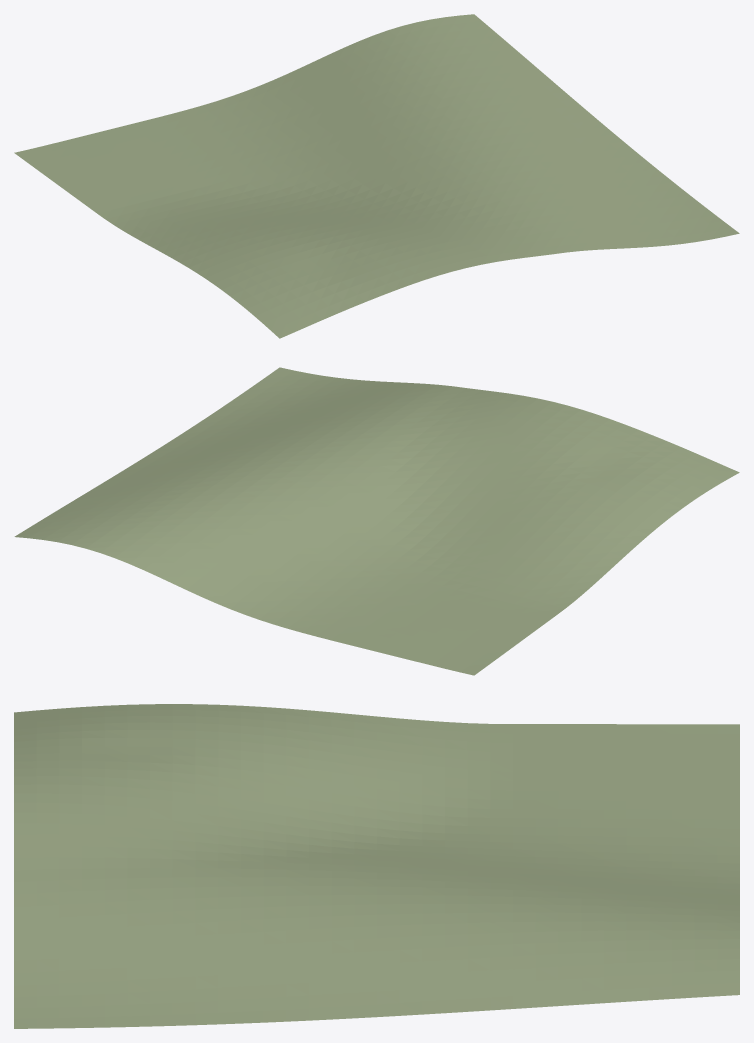
Rendered from desert-4-6.glb.
3 views of the same model, one above another, from view 1: azimuth 30°, elevation 25°; view 2: azimuth 150°, elevation 25°; view 3: azimuth 270°, elevation 25° (orthographic). The views are drawn at different scales.
Visible parts, largest first — view 1: desert-4-6; view 2: desert-4-6; view 3: desert-4-6.
Part boxes in pixels (x1,y1,x2,y2): desert-4-6: [14, 14, 739, 338]; desert-4-6: [14, 367, 739, 675]; desert-4-6: [14, 704, 739, 1028].
Bounding box in the file's own units: 512 × 36.18 × 512.
